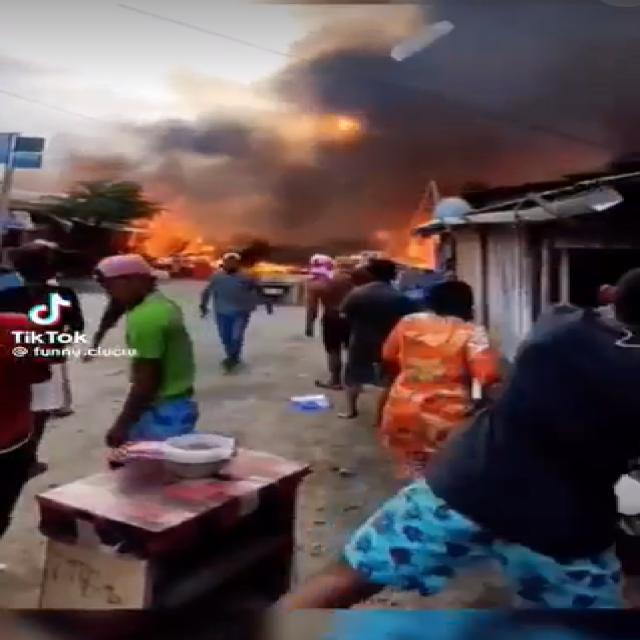Fire: (113, 206, 216, 274), (374, 209, 452, 270)
Smoke: (170, 0, 640, 262)
